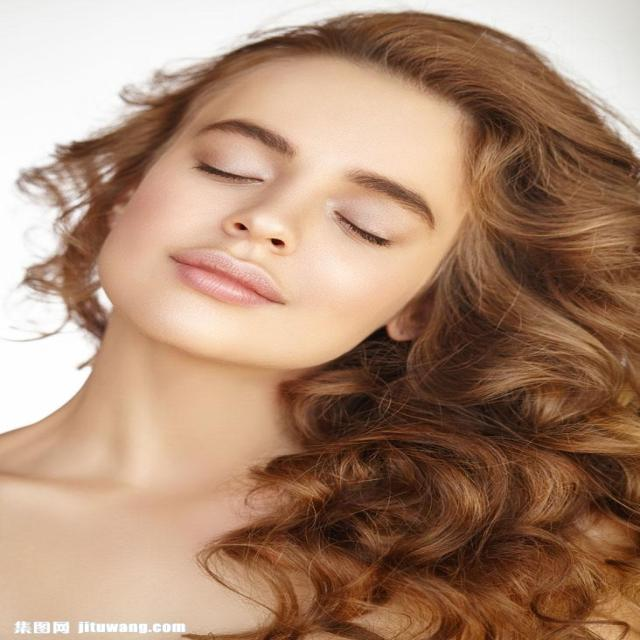Closed: (329, 207, 396, 249), (189, 158, 267, 188)
